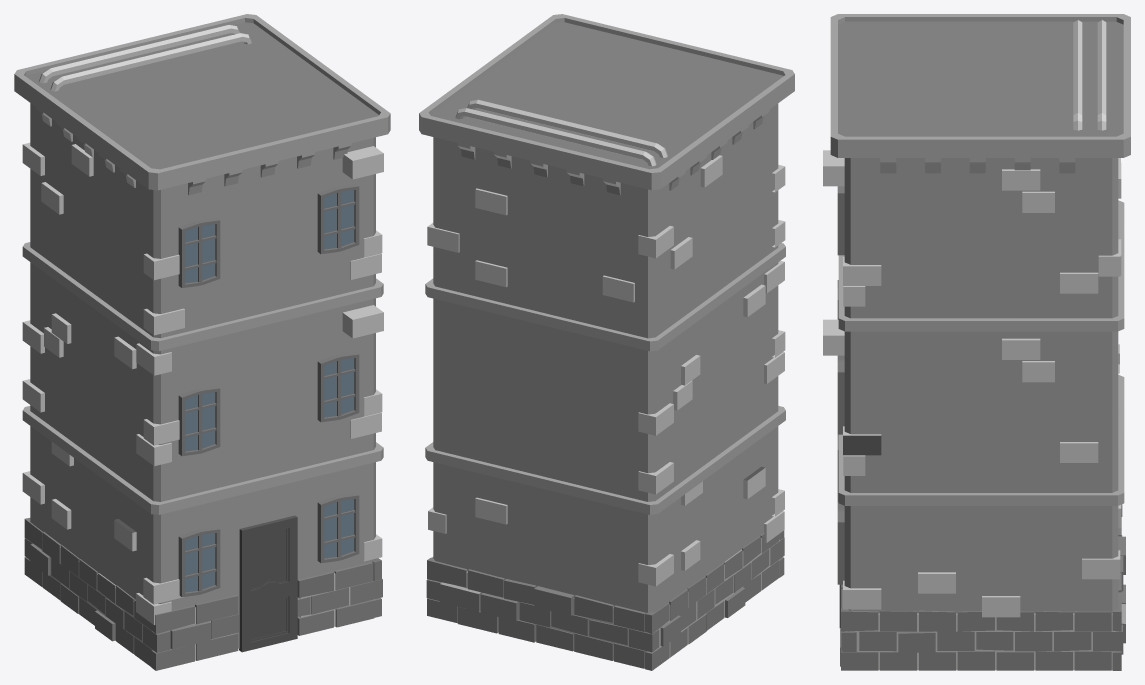
The model's file is qtb_3story_small.fbx.
3 renders of one model, left to right at view 1: azimuth 30°, elevation 25°; view 2: azimuth 150°, elevation 25°; view 3: azimuth 270°, elevation 25°, orthographic. The views are drawn at different scales.
Parts seen in each view (by area): view 1: qtb_3story_small_LOD0; view 2: qtb_3story_small_LOD0; view 3: qtb_3story_small_LOD0.
Boxes of the visible parts, box(x1,y1,x2,y2) form: qtb_3story_small_LOD0: box(14, 14, 390, 670); qtb_3story_small_LOD0: box(419, 14, 794, 670); qtb_3story_small_LOD0: box(823, 14, 1130, 670).
Size of what is drawn, in the model's own units: 5.15 by 10.39 by 5.33.
